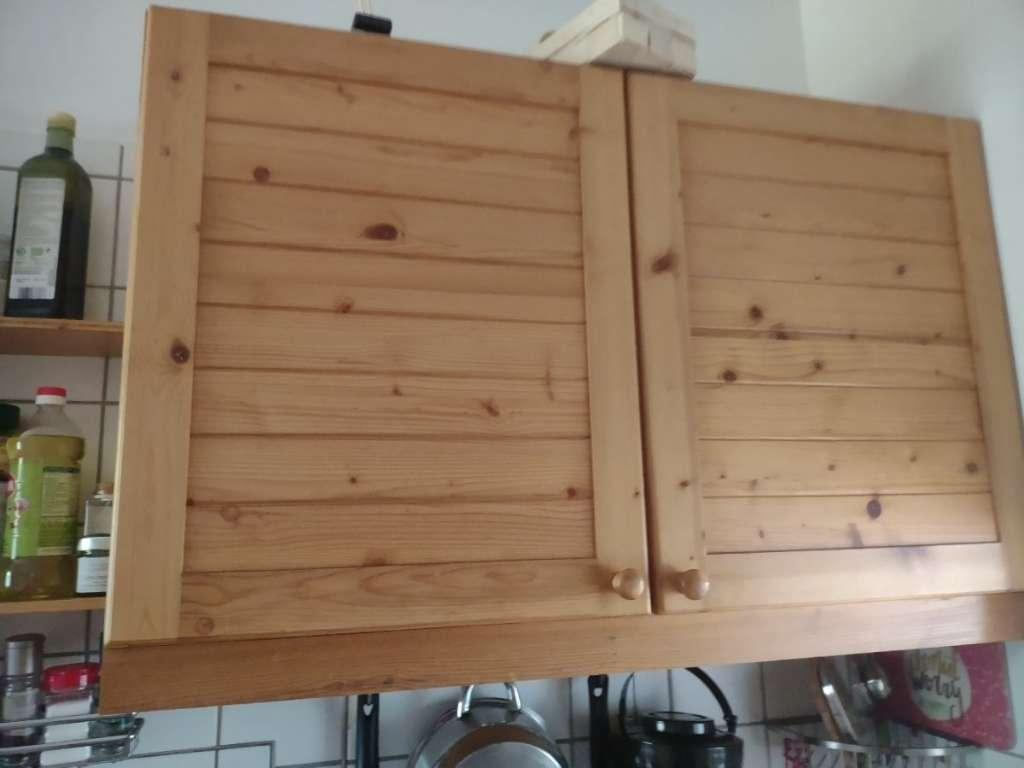cabinet_door: (136, 38, 643, 634), (660, 76, 980, 613)
handle: (603, 561, 652, 608), (674, 563, 713, 610)
